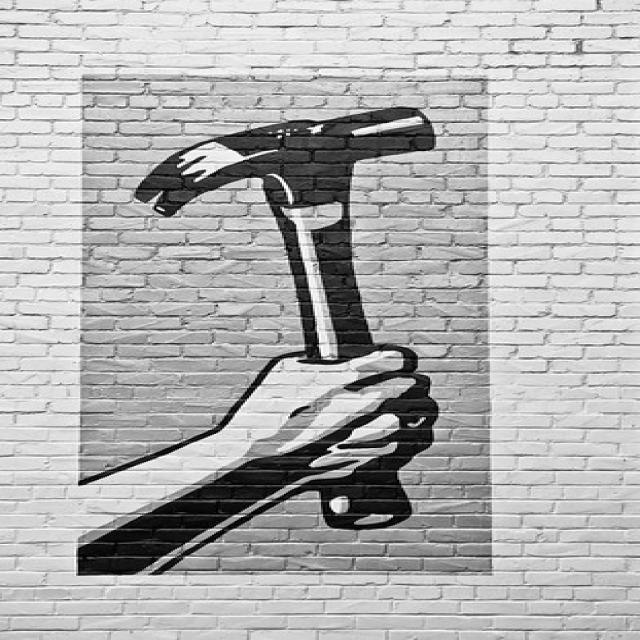hammer: (126, 101, 454, 538)
